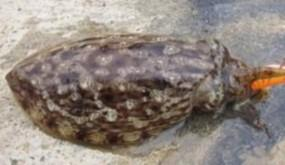Cephalopod: (6, 34, 265, 155)
